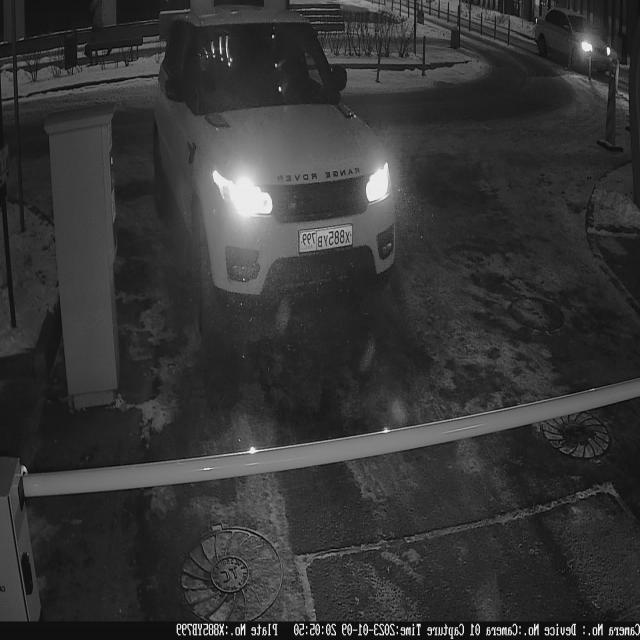car-plate-numbers: (299, 223, 357, 261)
